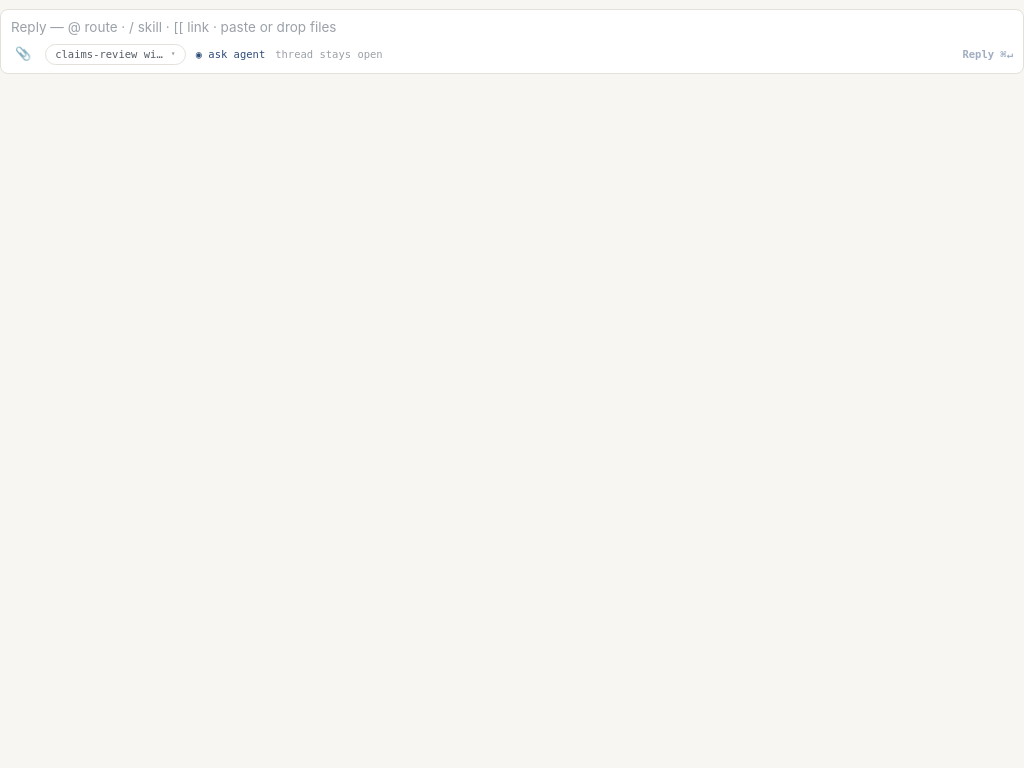
Test: a thread's reply box › offers the roster's lanes, the orchestrator's first
The image size is (1024, 768).
Click the button "claims-review will answer · heavy ▾" at (115, 54), box [45, 44, 186, 65]
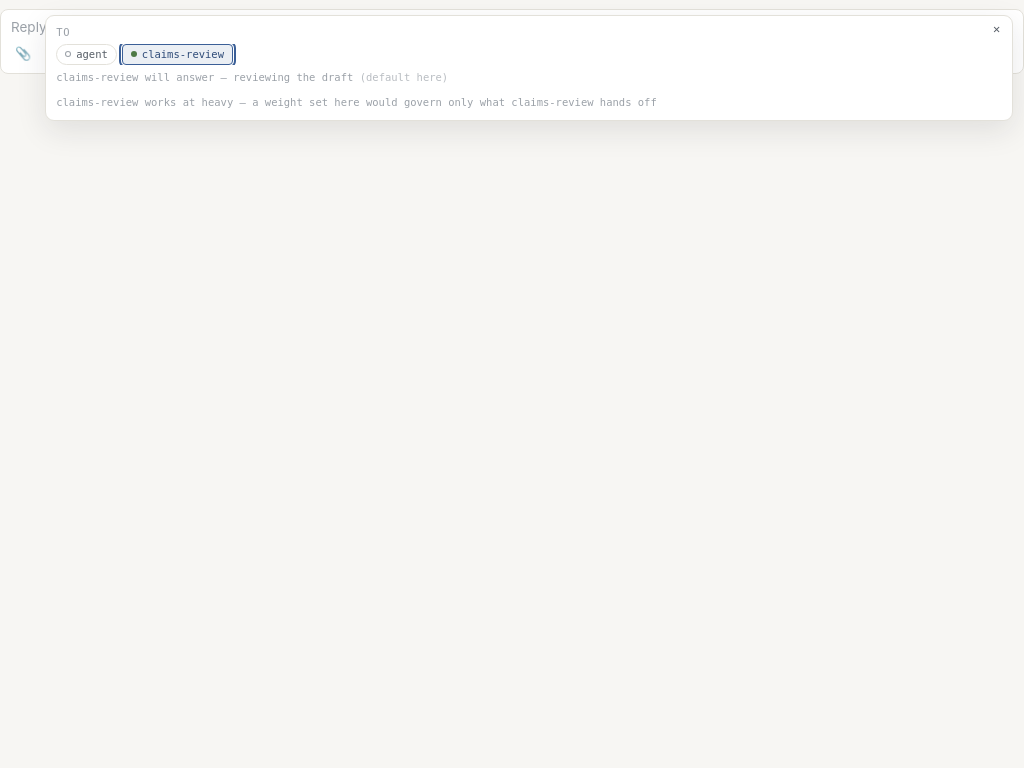
Expected: the button "agent" is shown, [56, 44, 117, 65]
Expected: the button "claims-review" is shown, [122, 44, 233, 65]
